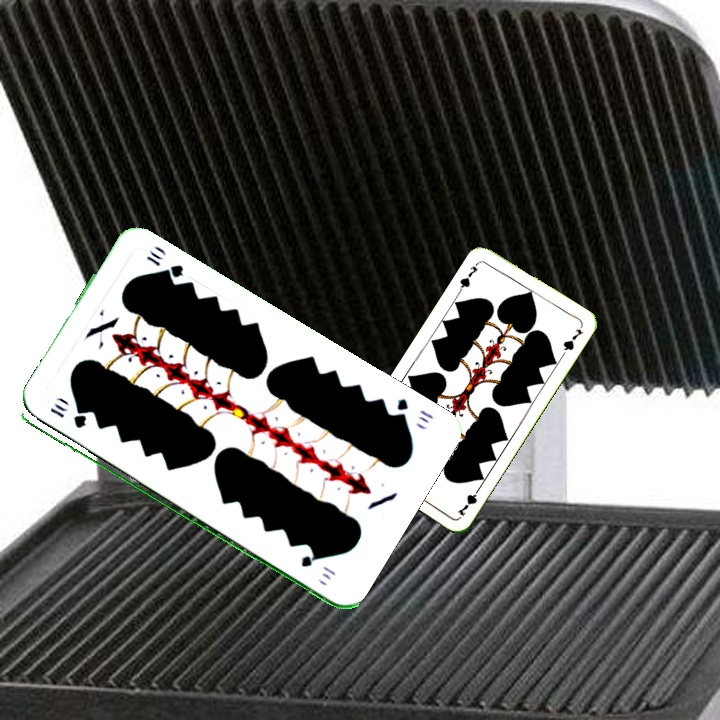G10: (389, 394, 436, 426), (46, 399, 88, 432)
G7: (453, 482, 483, 519), (455, 258, 482, 294)
